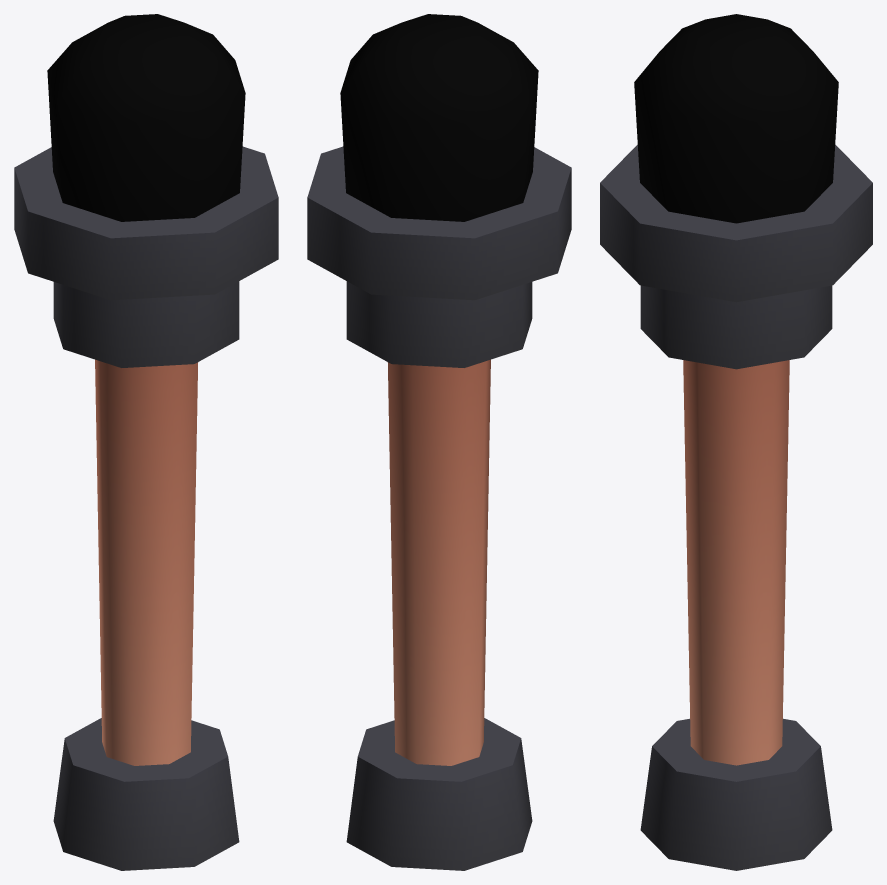
File: warning-orange.obj
3 renders of one model, left to right at view 1: azimuth 30°, elevation 25°; view 2: azimuth 150°, elevation 25°; view 3: azimuth 270°, elevation 25°, orthographic.
Visible parts, largest first — view 1: warning-orange; view 2: warning-orange; view 3: warning-orange.
Boxes of the visible parts, bbox=[...] form: warning-orange: bbox=[14, 14, 278, 870]; warning-orange: bbox=[307, 14, 571, 870]; warning-orange: bbox=[600, 14, 872, 870].
Size of the model in its own units: 0.4 by 1.29 by 0.4.
